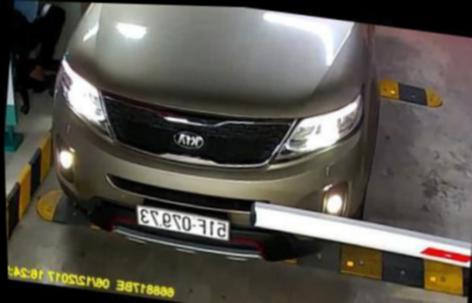License_Plate: (121, 200, 245, 241)
